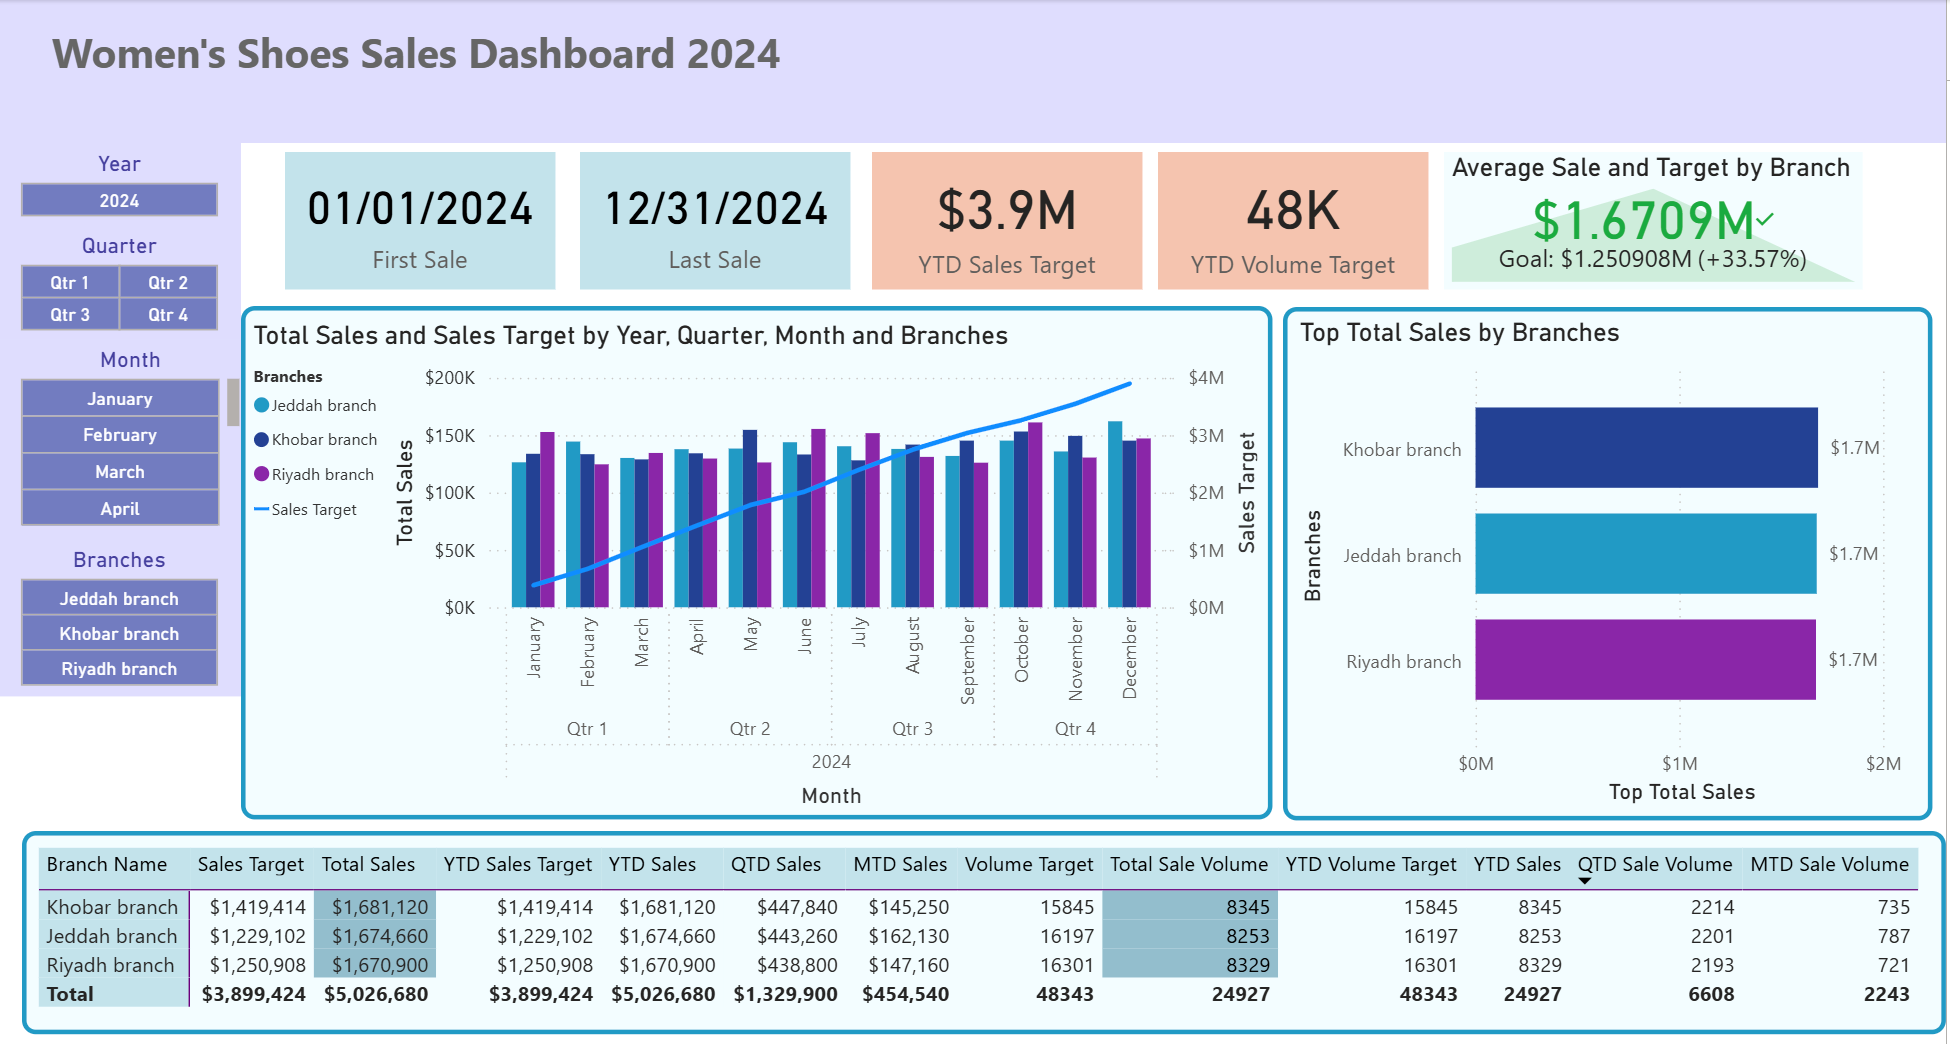

The dashboard page shown, as its layout file describes it:
{"tool":"powerbi","page":{"name":"Page 1","canvas":[1280,720],"ordinal":0},"visuals":[{"type":"advancedSlicerVisual","fields":{"Values":["DateTable.Date.Variation.Date Hierarchy.Month"]},"box":[5.2,221.8,159,130.9],"z":0},{"type":"shape","title":"Women''s Shoes Sales Dashboard","box":[5.2,0,1274.8,93.6],"z":1000},{"type":"card","title":"Last Sale","fields":{"Values":["sales.last_sale"]},"box":[386.1,99.5,177.3,90.3],"z":2000},{"type":"pivotTable","fields":{"Rows":["branches.branch_name"],"Values":["sales_targets.aggregate_sales_target","sales_targets.ytd_sales_target","sales.ytd_sales","sales.qtd_sales","sales.mtd_sales","sales_targets.aggregate_units_target","sales_targets.ytd_unit_target","sales.ytd_quantity","sales.qtd_quantity","sales.mtd_quantity"]},"box":[183.2,545.8,1064,132.8],"z":3000},{"type":"advancedSlicerVisual","fields":{"Values":["DateTable.Date.Variation.Date Hierarchy.Year"]},"box":[5.2,93.6,159,53.7],"z":4000},{"type":"lineClusteredColumnComboChart","fields":{"Category":["DateTable.Date.Variation.Date Hierarchy.Year","DateTable.Date.Variation.Date Hierarchy.Quarter","DateTable.Date.Variation.Date Hierarchy.Month","DateTable.Date.Variation.Date Hierarchy.Day"],"Series":["branches.branch_name"],"Y":["sales.aggregate_sale"],"Y2":["sales_targets.ytd_sales_target"]},"box":[164.3,200.2,674.7,336.4],"z":5000},{"type":"clusteredBarChart","fields":{"Category":["branches.branch_name"],"Y":["sales.aggregate_sale"]},"box":[846.1,200.9,424.7,335.7],"z":6000},{"type":"card","fields":{"Values":["sales_targets.ytd_sales_target"]},"box":[577.2,99.5,177.3,90.3],"z":7000},{"type":"card","title":"Last Sale","fields":{"Values":["sales.first_sale"]},"box":[193,99.5,177.3,90.3],"z":8000},{"type":"card","fields":{"Values":["sales_targets.ytd_unit_target"]},"box":[764.3,99.5,177.3,90.3],"z":9000},{"type":"advancedSlicerVisual","fields":{"Values":["DateTable.Date.Variation.Date Hierarchy.Quarter"]},"box":[5.2,147.2,159,74.6],"z":10000},{"type":"kpi","fields":{"Indicator":["sales.aggregate_sale"],"Goal":["sales_targets.aggregate_sales_target"],"TrendLine":["DateTable.Date.Variation.Date Hierarchy.Year"]},"box":[951.5,99.5,273.5,90.3],"z":11000},{"type":"advancedSlicerVisual","fields":{"Values":["branches.branch_name"]},"box":[5.2,352.7,159,103.4],"z":12000},{"type":"textbox","box":[35.3,10.5,586.3,50.4],"z":13000}]}

Visuals, with their boxes on the page's 1280x720 design canvas (x1, y1, x2, y2). These are canvas units, not pixel positions in the 1950x1044 screenshot, which may show the page scaled, cropped or inside an application window:
advancedSlicerVisual - DateTable.Date.Variation.Date Hierarchy.Month: [x1=5, y1=222, x2=164, y2=353]
"Women''s Shoes Sales Dashboard" shape: [x1=5, y1=0, x2=1280, y2=94]
"Last Sale" card: [x1=386, y1=100, x2=563, y2=190]
pivotTable - branches.branch_name x sales_targets.aggregate_sales_target: [x1=183, y1=546, x2=1247, y2=679]
advancedSlicerVisual - DateTable.Date.Variation.Date Hierarchy.Year: [x1=5, y1=94, x2=164, y2=147]
lineClusteredColumnComboChart - DateTable.Date.Variation.Date Hierarchy.Year x DateTable.Date.Variation.Date Hierarchy.Quarter: [x1=164, y1=200, x2=839, y2=537]
clusteredBarChart - branches.branch_name x sales.aggregate_sale: [x1=846, y1=201, x2=1271, y2=537]
card - sales_targets.ytd_sales_target: [x1=577, y1=100, x2=754, y2=190]
"Last Sale" card: [x1=193, y1=100, x2=370, y2=190]
card - sales_targets.ytd_unit_target: [x1=764, y1=100, x2=942, y2=190]
advancedSlicerVisual - DateTable.Date.Variation.Date Hierarchy.Quarter: [x1=5, y1=147, x2=164, y2=222]
kpi - sales.aggregate_sale x sales_targets.aggregate_sales_target: [x1=952, y1=100, x2=1225, y2=190]
advancedSlicerVisual - branches.branch_name: [x1=5, y1=353, x2=164, y2=456]
textbox: [x1=35, y1=10, x2=622, y2=61]
